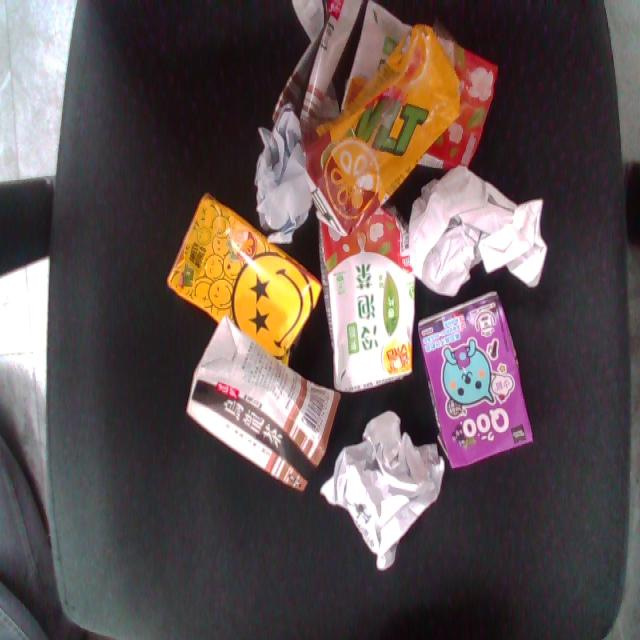juicebox: (252, 10, 511, 264), (152, 300, 377, 510), (137, 177, 358, 379), (395, 283, 548, 481), (312, 199, 430, 395)
paper: (279, 383, 492, 597), (206, 88, 351, 270), (389, 145, 554, 303)
